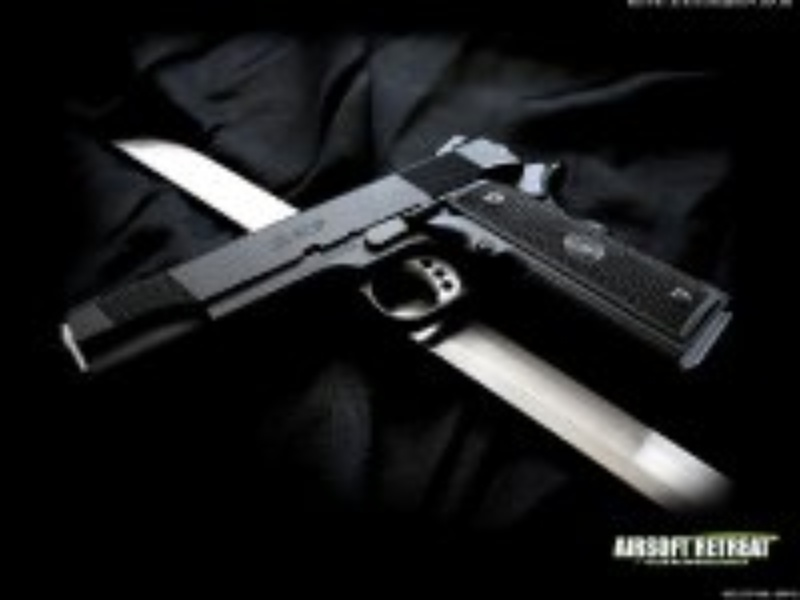gun: (54, 104, 744, 417)
